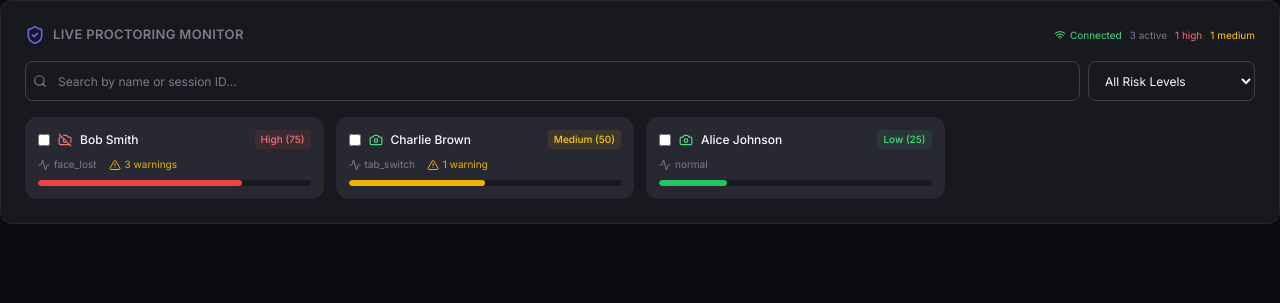
Test: MonitoringGrid › selects multiple sessions via checkboxes
Click the checkbox next to "Bob Smith" at (44, 140), box top-left (38, 134), bottom-right (50, 146)
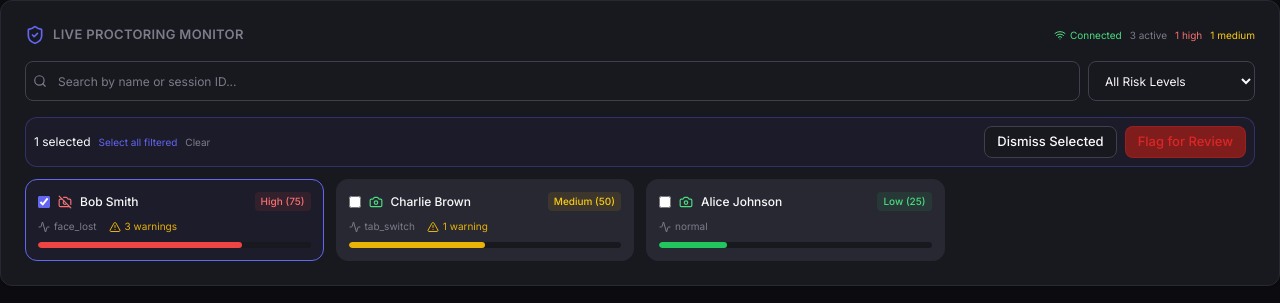
Click the checkbox next to "Charlie Brown" at (354, 202), box top-left (348, 196), bottom-right (360, 208)
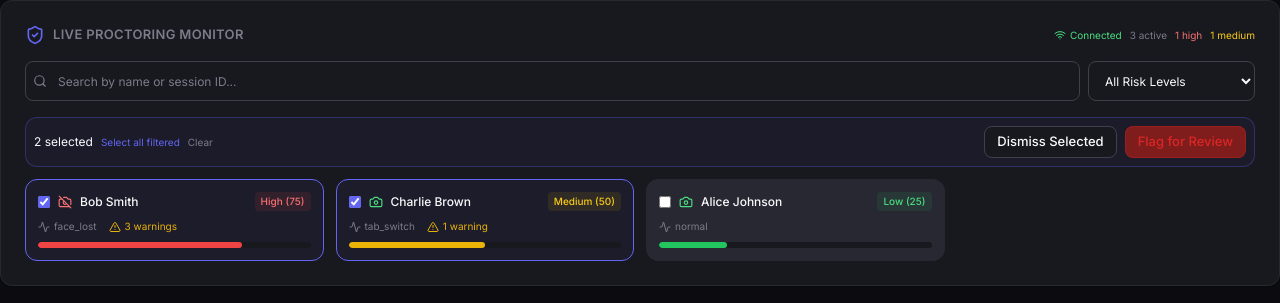
Expected: the text "2 selected" is shown, top-left (34, 133), bottom-right (93, 151)
